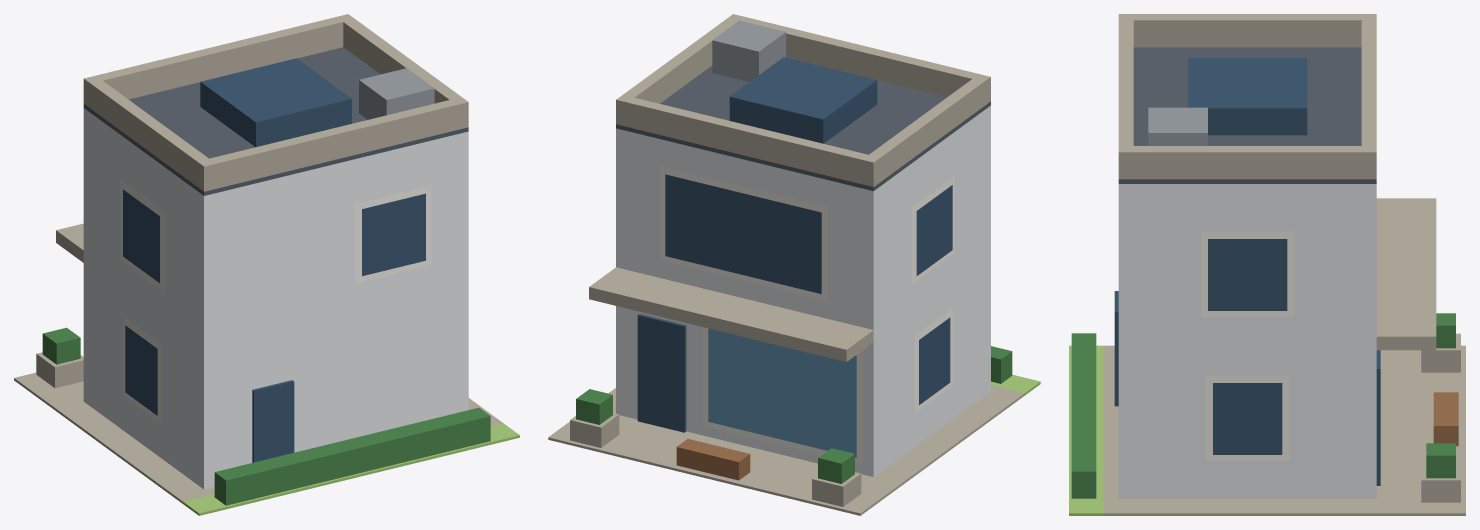
3 renders of one model, left to right at view 1: azimuth 30°, elevation 25°; view 2: azimuth 150°, elevation 25°; view 3: azimuth 270°, elevation 25°, orthographic. The views are drawn at different scales.
Visible parts, largest first — view 1: wall, parapet (×4), hedge (×2), roof_light, window_glass (×3), roof, paving, window_frame (×3), door, ac_unit, lawn, planter (+1 smaller); view 2: wall, parapet (×4), window_glass (×3), storefront, paving, canopy, roof_light, roof, window_frame (×3), door, ac_unit, hedge (×3) (+3 smaller); view 3: wall, parapet (×4), paving, roof, window_glass (×2), canopy, roof_light, hedge (×3), window_frame (×2), ac_unit, lawn, planter (×2) (+2 smaller).
Boxes of the visible parts, x1,y1,x2,y2 form: wall: (83, 108, 468, 489); parapet (×4): (83, 14, 468, 191); hedge (×2): (42, 327, 490, 505); roof_light: (200, 58, 351, 147); window_glass (×3): (123, 189, 425, 415); roof: (83, 47, 468, 195); paving: (14, 372, 503, 503); window_frame (×3): (120, 180, 431, 423); door: (252, 380, 294, 462); ac_unit: (359, 68, 434, 119); lawn: (183, 423, 519, 515); planter: (36, 352, 83, 388); wall: (616, 105, 990, 476); parapet (×4): (616, 14, 990, 186); window_glass (×3): (665, 174, 952, 404); storefront: (708, 328, 856, 457); paving: (548, 385, 1024, 515); canopy: (589, 267, 873, 361); roof_light: (729, 57, 877, 143); roof: (616, 65, 990, 190); window_frame (×3): (660, 166, 954, 413); door: (637, 314, 686, 432); ac_unit: (712, 20, 785, 81); hedge (×3): (576, 346, 1012, 483); wall: (1118, 184, 1376, 498); parapet (×4): (1118, 14, 1376, 179); paving: (1103, 345, 1465, 515); roof: (1118, 47, 1376, 183); window_glass (×2): (1208, 239, 1287, 454); canopy: (1376, 198, 1436, 350); roof_light: (1188, 58, 1307, 135); hedge (×3): (1071, 313, 1455, 498); window_frame (×2): (1200, 231, 1294, 460); ac_unit: (1148, 107, 1207, 145); lawn: (1069, 345, 1103, 515); planter (×2): (1421, 333, 1460, 502).
Bounding box in the file's own units: 8 × 7.96 × 8.
